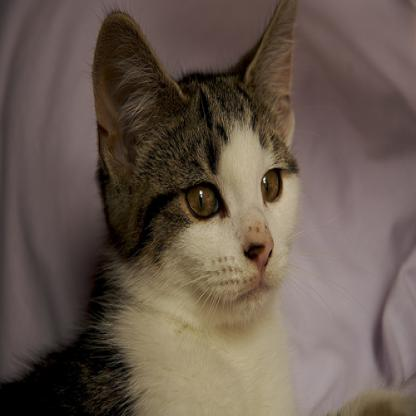cat: (32, 0, 317, 415)
